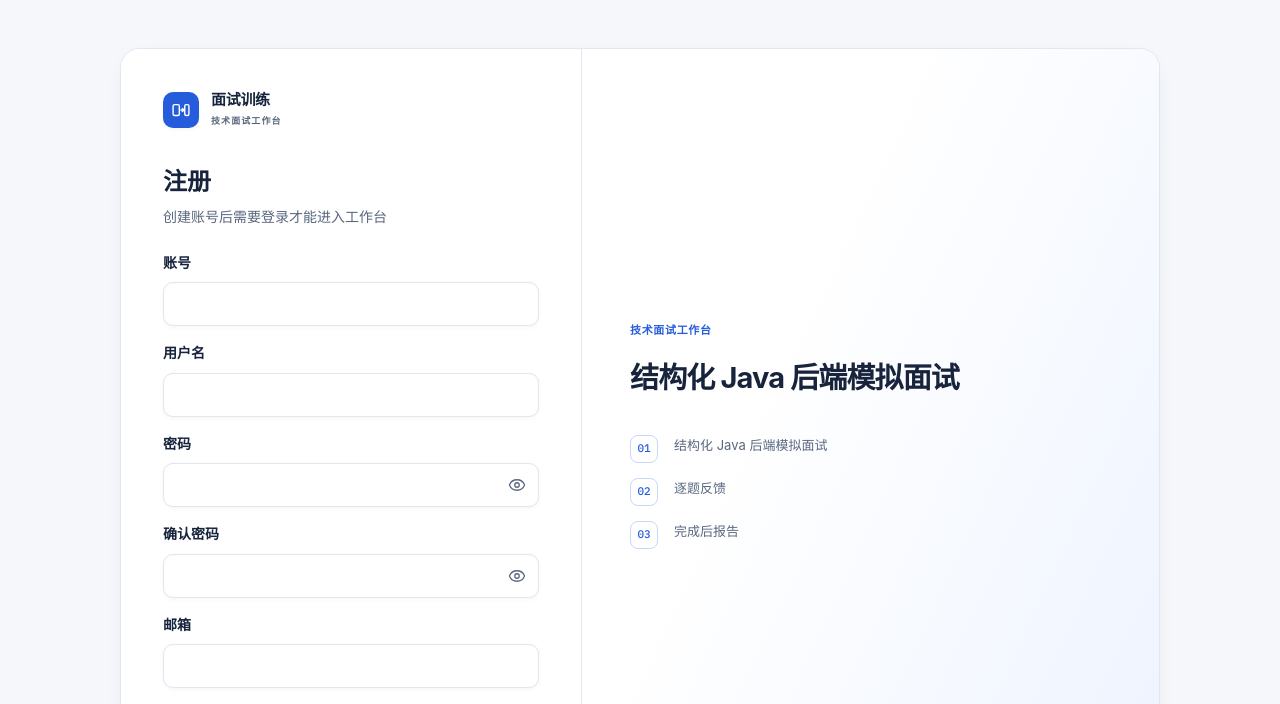
Test: RegisterView › keeps confirmPassword as local form state and does not send it
Type "alice" into the field with id "register-account" at (351, 304), box [163,282,539,326]
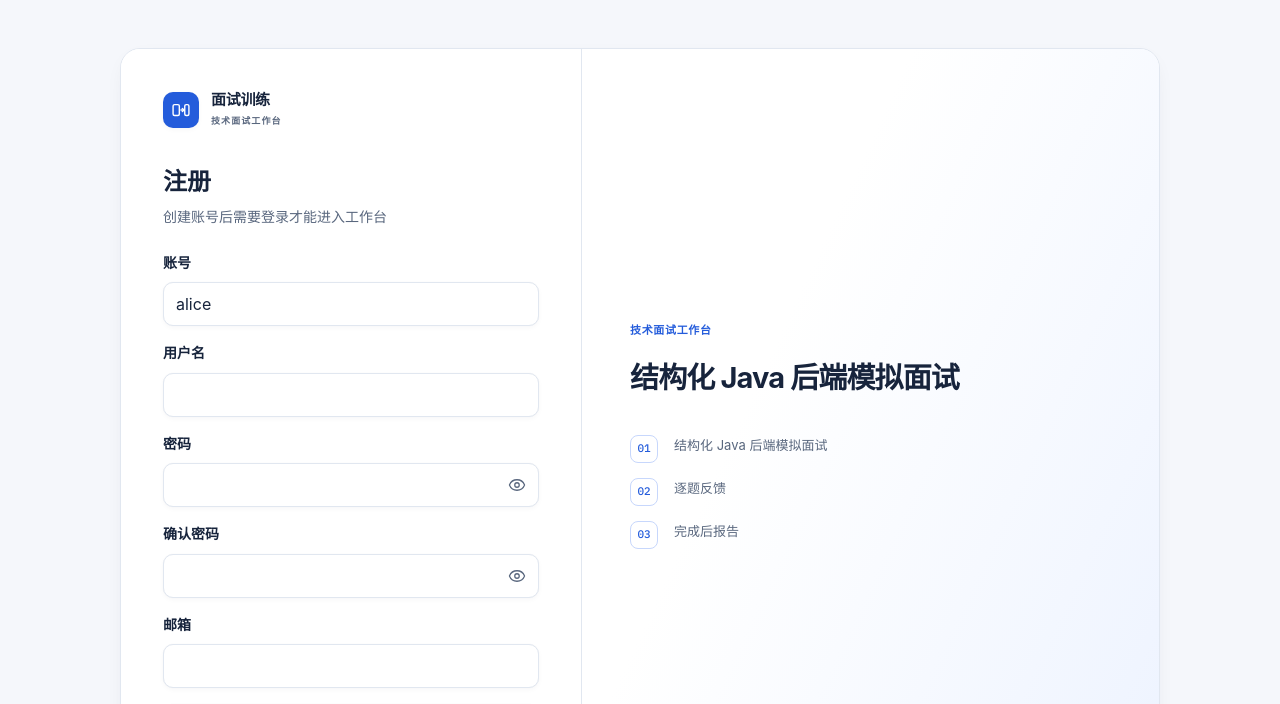
Type "爱丽丝" into the field with id "register-username" at (351, 395), box [163,373,539,417]
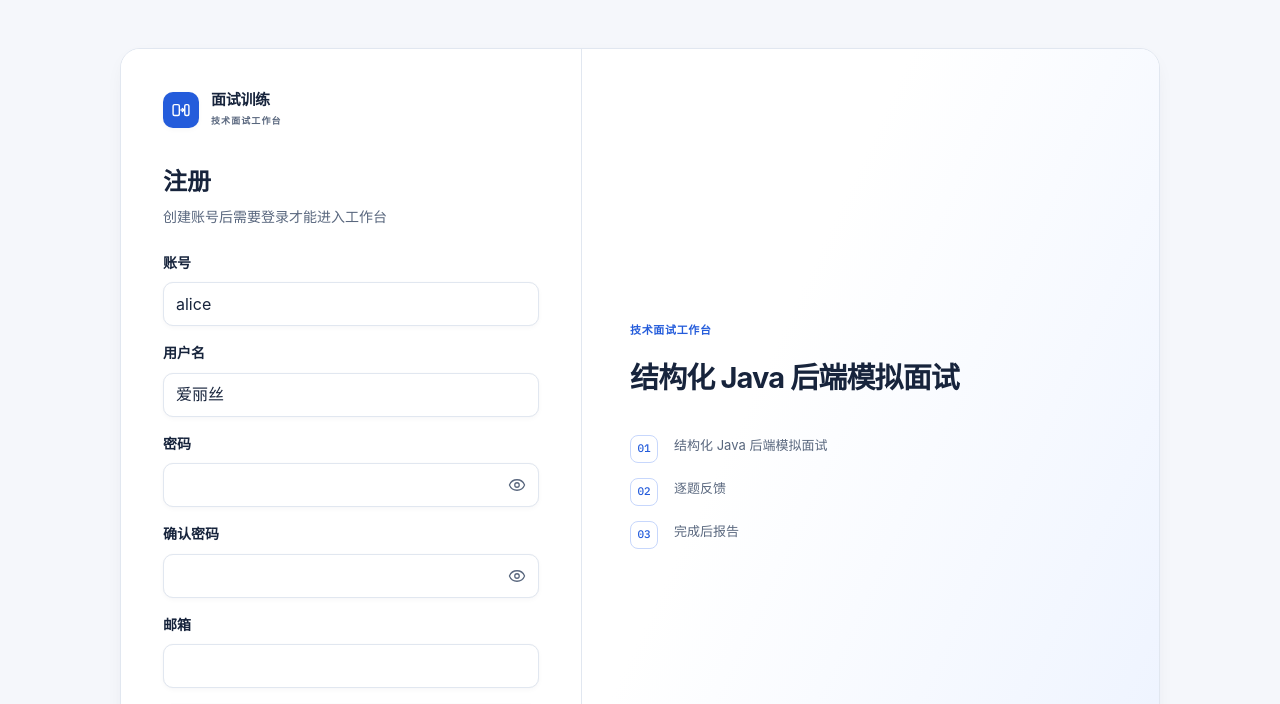
Type "password1" into the password field with id "register-password" at (351, 485), box [163,463,539,507]
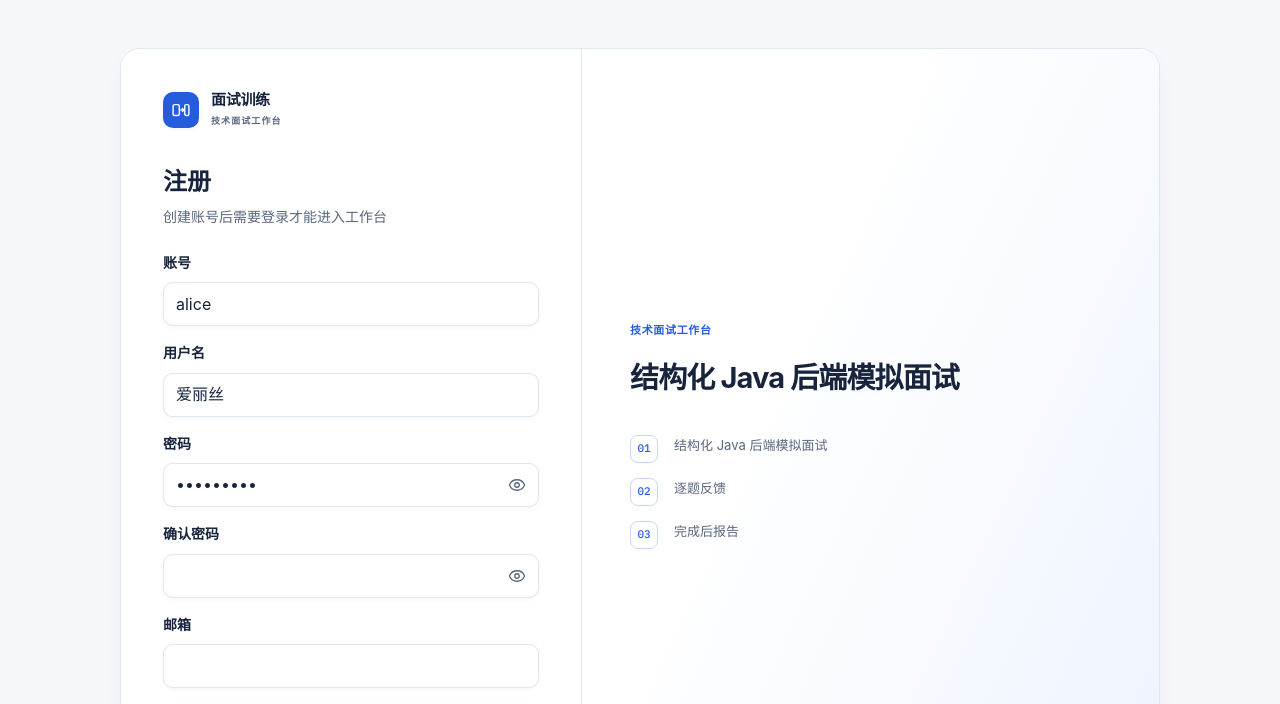
Type "password1" into the password field with id "register-confirm-password" at (351, 576), box [163,554,539,598]
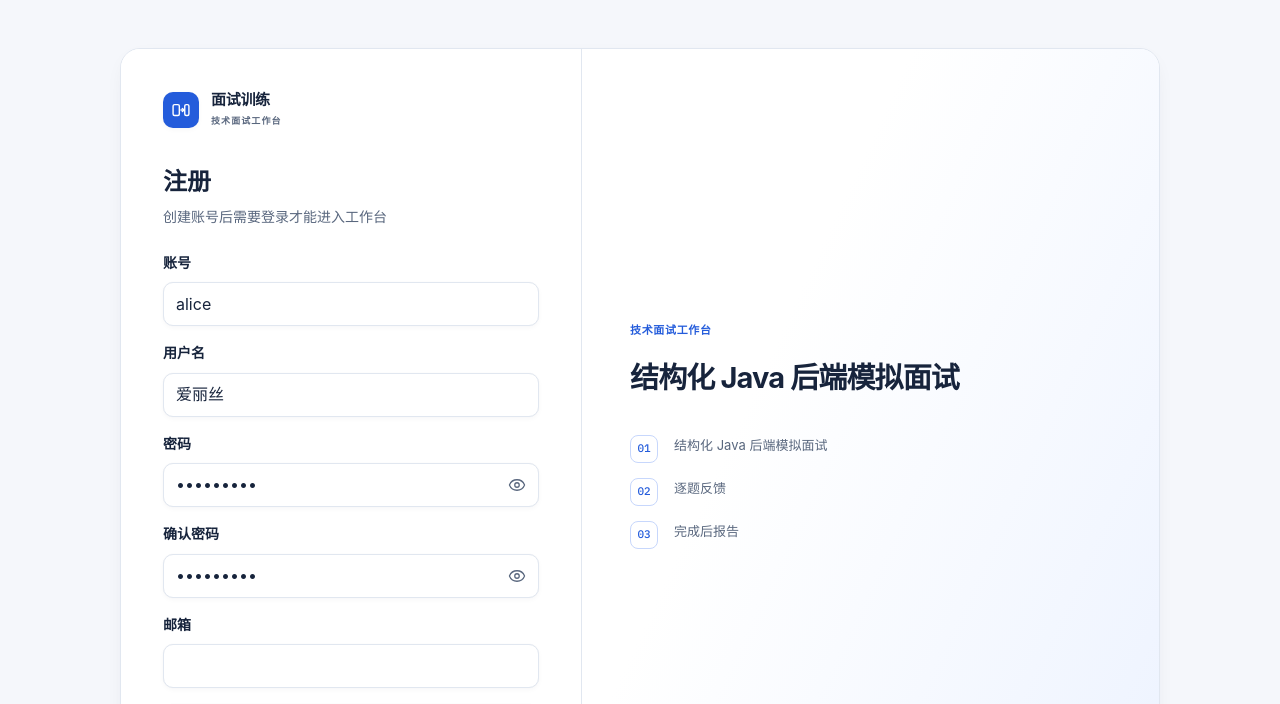
Type "alice@example.com" into the field with id "register-email" at (351, 666), box [163,644,539,688]
(page scrolled)
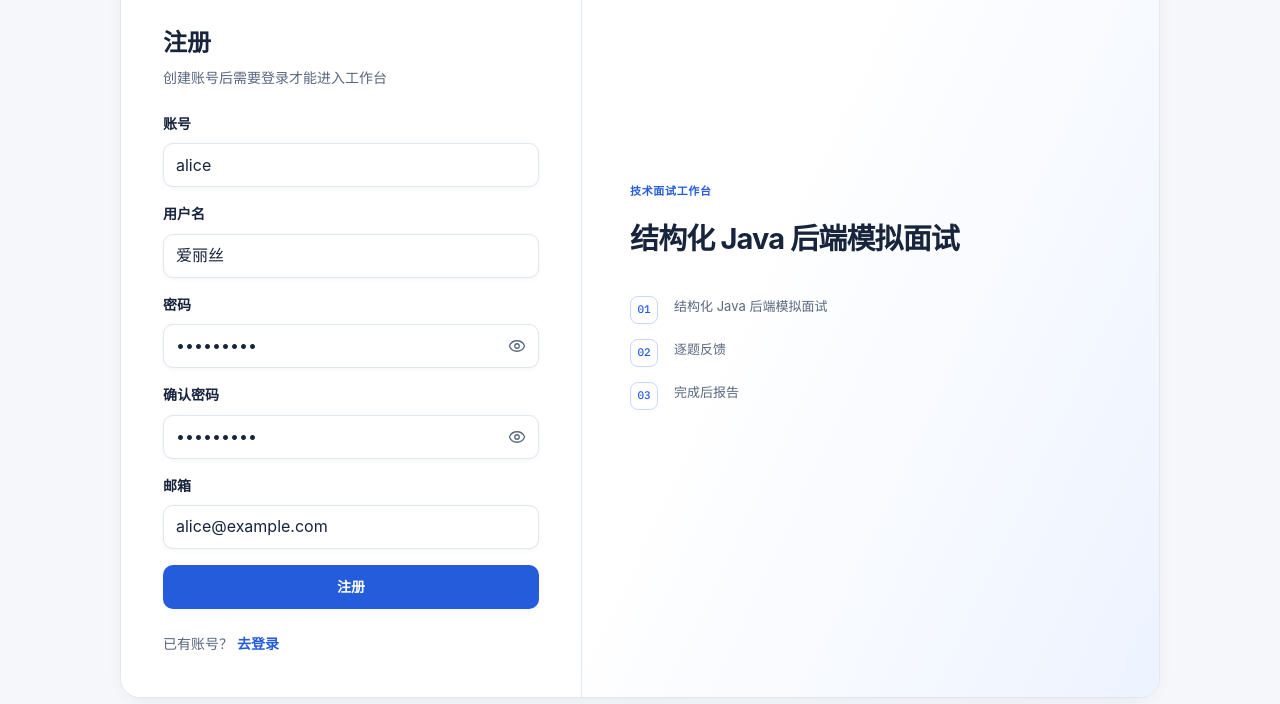
Submit the form, box [163,113,539,609]
(page scrolled)
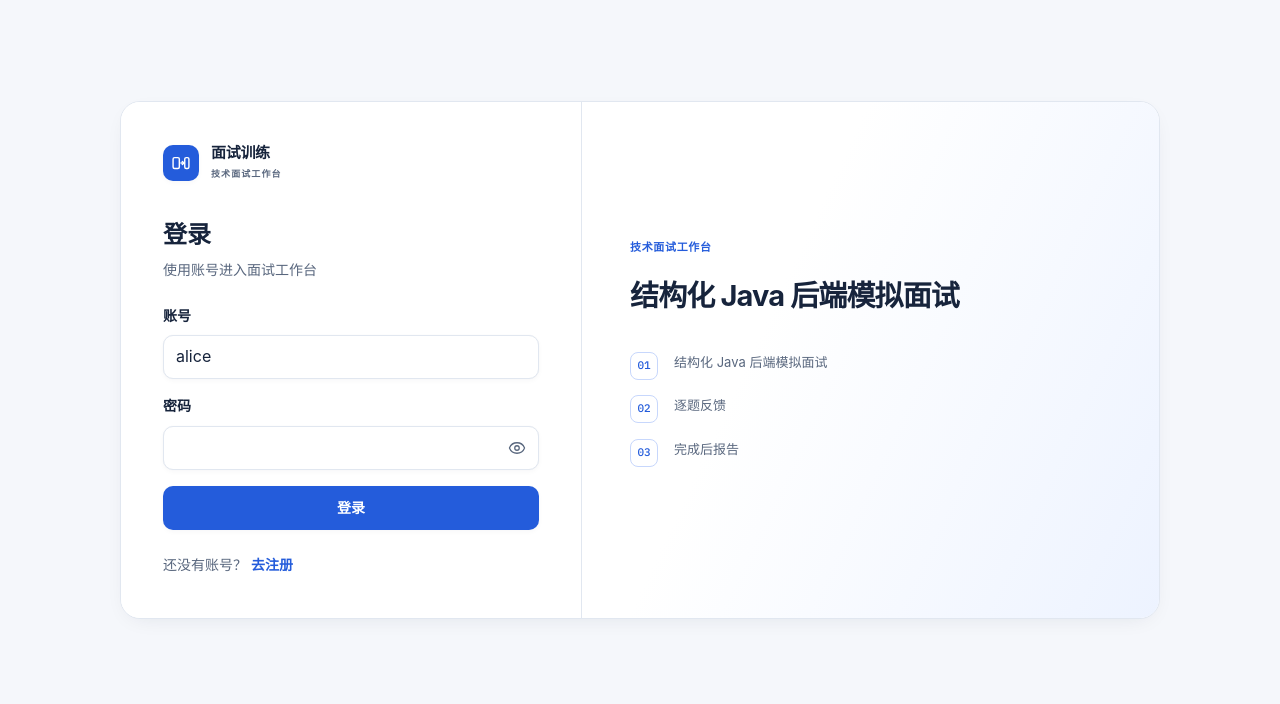
Result: the field with id "login-account" holds "alice" at [163,335,539,379]
